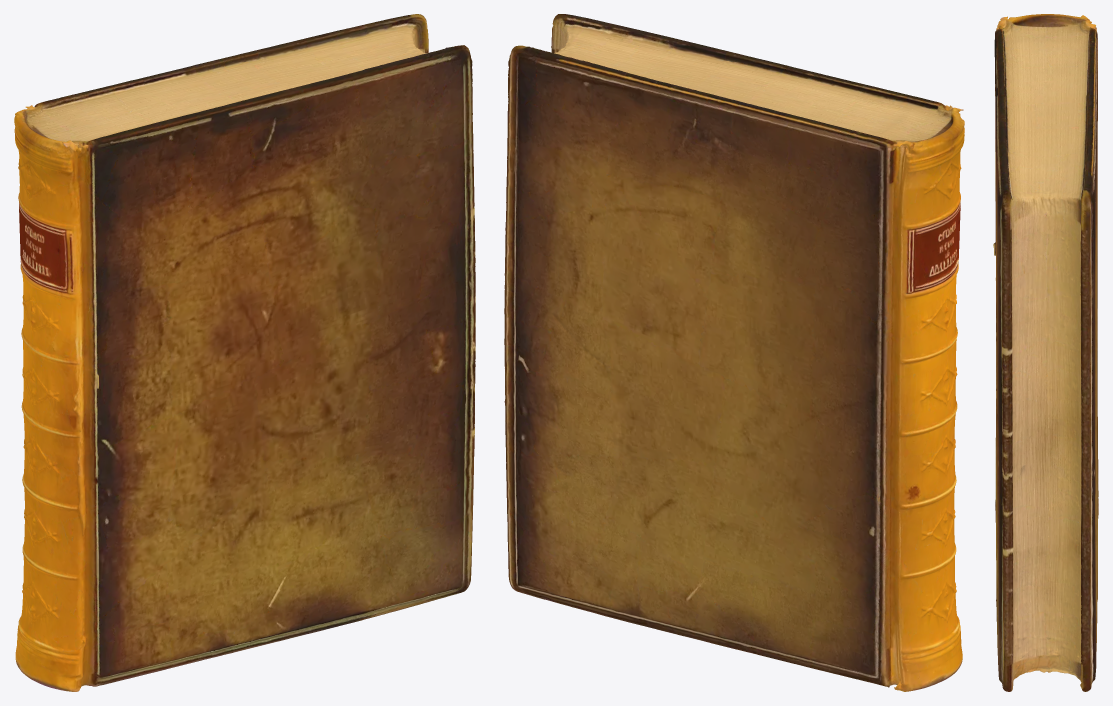
Rendered from 3D_book_small.glb.
3 renders of one model, left to right at view 1: azimuth 30°, elevation 25°; view 2: azimuth 150°, elevation 25°; view 3: azimuth 270°, elevation 25°, orthographic. The views are drawn at different scales.
Size of the model in its own units: 1.53 by 1.89 by 0.3589.
1 material, 1 textured.
